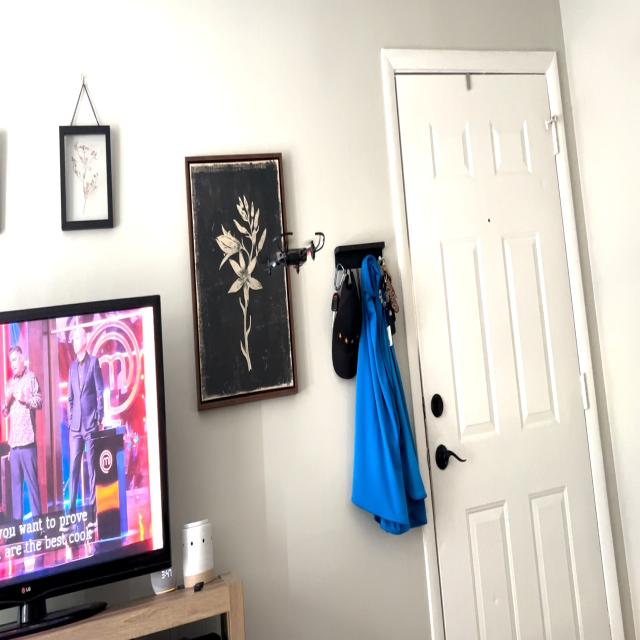drone: (233, 212, 334, 288)
